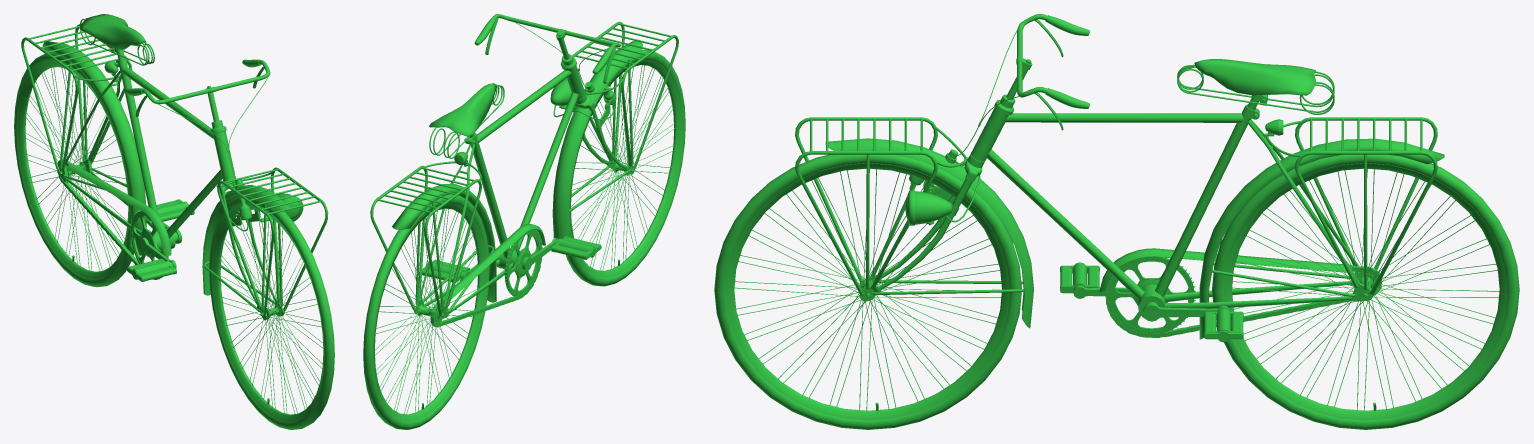
File: Bike.fbx
3 views of the same model, side by side, from view 1: azimuth 30°, elevation 25°; view 2: azimuth 150°, elevation 25°; view 3: azimuth 270°, elevation 25° (orthographic). The views are drawn at different scales.
Visible parts, largest first — view 1: Bike_1, Bike_1_1, Bike_1_2; view 2: Bike_1, Bike_1_1, Bike_1_2; view 3: Bike_1, Bike_1_1, Bike_1_2.
Boxes of the visible parts, x1,y1,x2,y2 form: Bike_1: (14, 14, 328, 320); Bike_1_1: (209, 195, 334, 429); Bike_1_2: (127, 199, 194, 281); Bike_1: (363, 14, 678, 429); Bike_1_1: (566, 49, 685, 286); Bike_1_2: (422, 236, 601, 282); Bike_1: (795, 14, 1519, 429); Bike_1_1: (714, 154, 1021, 429); Bike_1_2: (1060, 262, 1243, 342).
Bounding box in the file's own units: 43.63 × 99.78 × 192.
